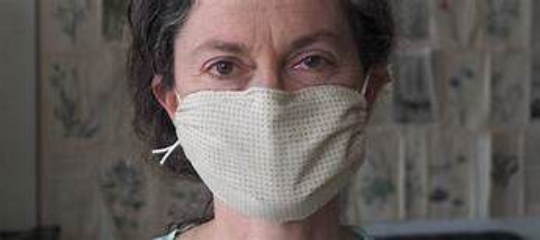mask: (148, 86, 378, 227)
social distancing: (78, 4, 482, 235)
